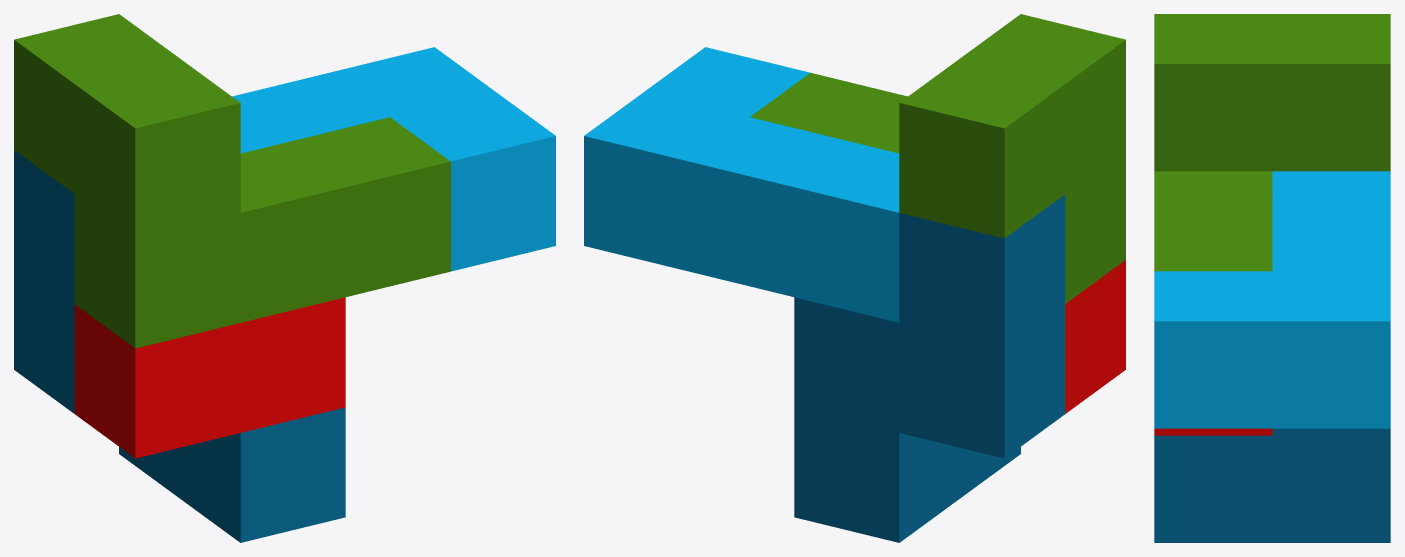
3 views of the same model, side by side, from view 1: azimuth 30°, elevation 25°; view 2: azimuth 150°, elevation 25°; view 3: azimuth 270°, elevation 25° (orthographic). The views are drawn at different scales.
Parts seen in each view (by area): view 1: mergedBlocks(Clone); view 2: mergedBlocks(Clone); view 3: mergedBlocks(Clone).
Boxes of the visible parts, bbox=[...] form: mergedBlocks(Clone): bbox=[14, 14, 555, 542]; mergedBlocks(Clone): bbox=[584, 14, 1125, 542]; mergedBlocks(Clone): bbox=[1154, 14, 1390, 542].
Bounding box in the file's own units: 4 × 4 × 2.
Materials: 4 (4 with a texture image).
